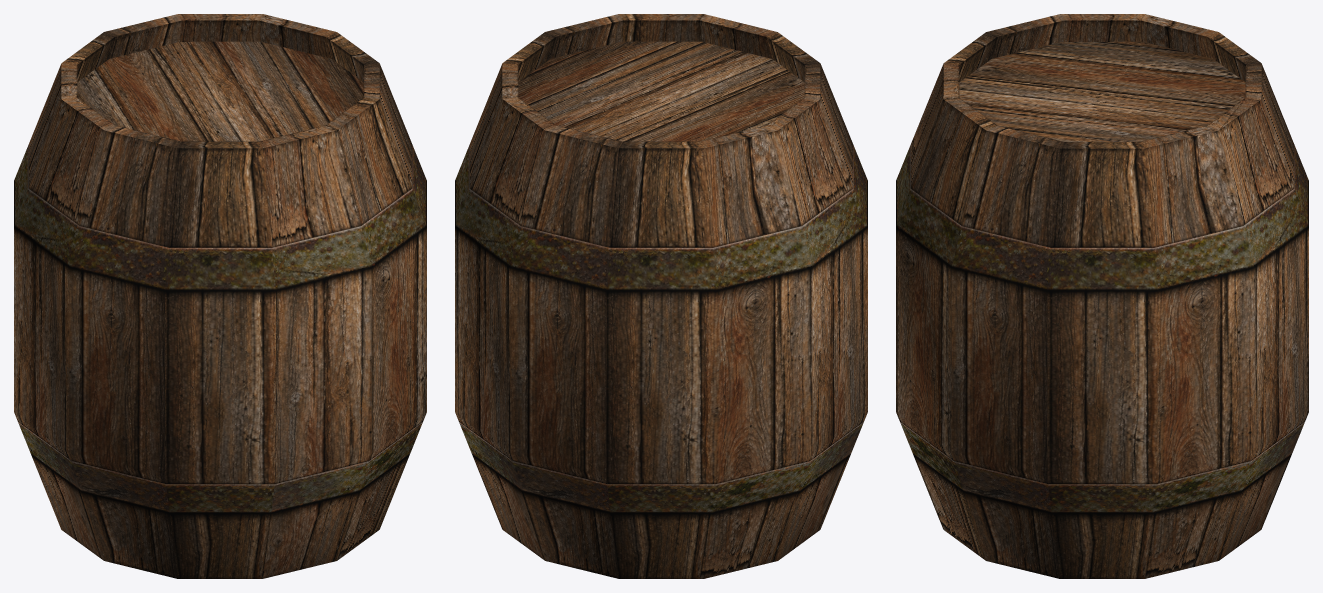
Rendered from mm9_deco_barrel.glb.
3 renders of one model, left to right at view 1: azimuth 30°, elevation 25°; view 2: azimuth 150°, elevation 25°; view 3: azimuth 270°, elevation 25°, orthographic.
Parts seen in each view (by area): view 1: Barrel; view 2: Barrel; view 3: Barrel.
Boxes of the visible parts, x1=… form: Barrel: x1=14, y1=14, x2=426, y2=578; Barrel: x1=455, y1=14, x2=867, y2=578; Barrel: x1=896, y1=14, x2=1308, y2=578.
Size of the model in its own units: 0.8716 by 1 by 0.8716.
1 material, 1 textured.
